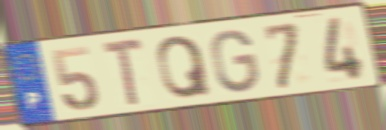4: (322, 14, 366, 84)
5: (49, 43, 100, 113)
7: (263, 20, 302, 91)
G: (209, 27, 262, 95)
Q: (155, 34, 214, 102)
T: (99, 35, 146, 110)
